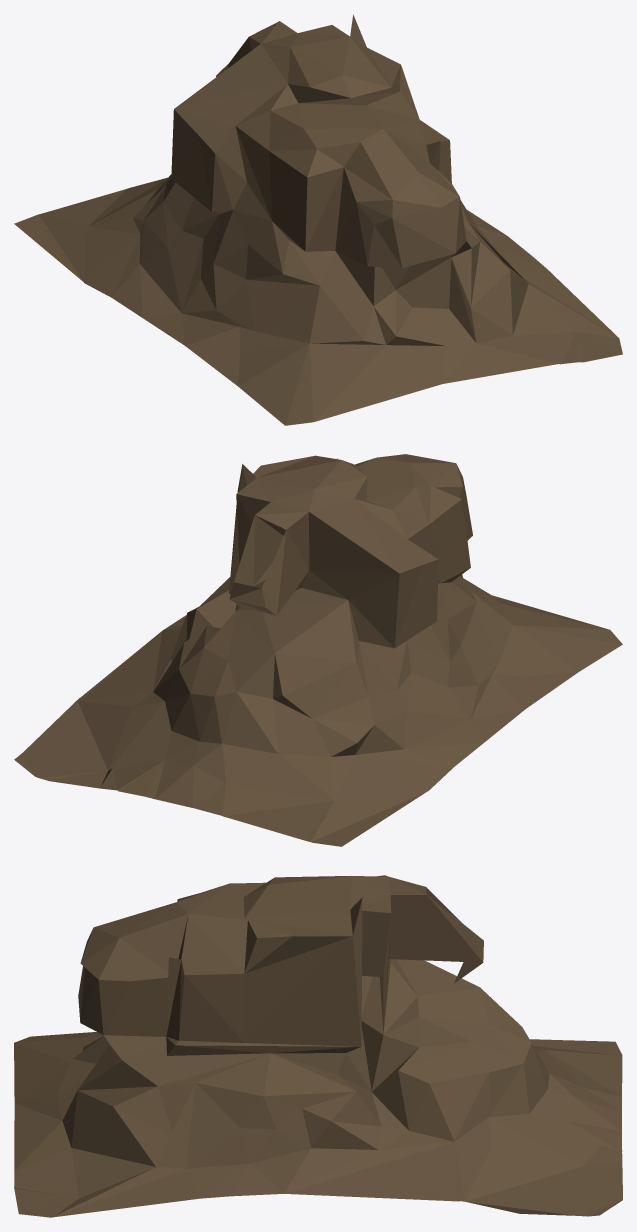
Rendered from coastal-bunker.lod2.glb.
The picture shows the model from 3 angles, top to bottom: view 1: azimuth 30°, elevation 25°; view 2: azimuth 150°, elevation 25°; view 3: azimuth 270°, elevation 25°; orthographic projection. The views are drawn at different scales.
Parts seen in each view (by area): view 1: Object_2; view 2: Object_2; view 3: Object_2.
Boxes of the visible parts, <box> form: Object_2: <box>14,14,622,425</box>; Object_2: <box>14,454,622,846</box>; Object_2: <box>14,875,622,1217</box>.
Bounding box in the file's own units: 15.27 × 10.42 × 21.99.
